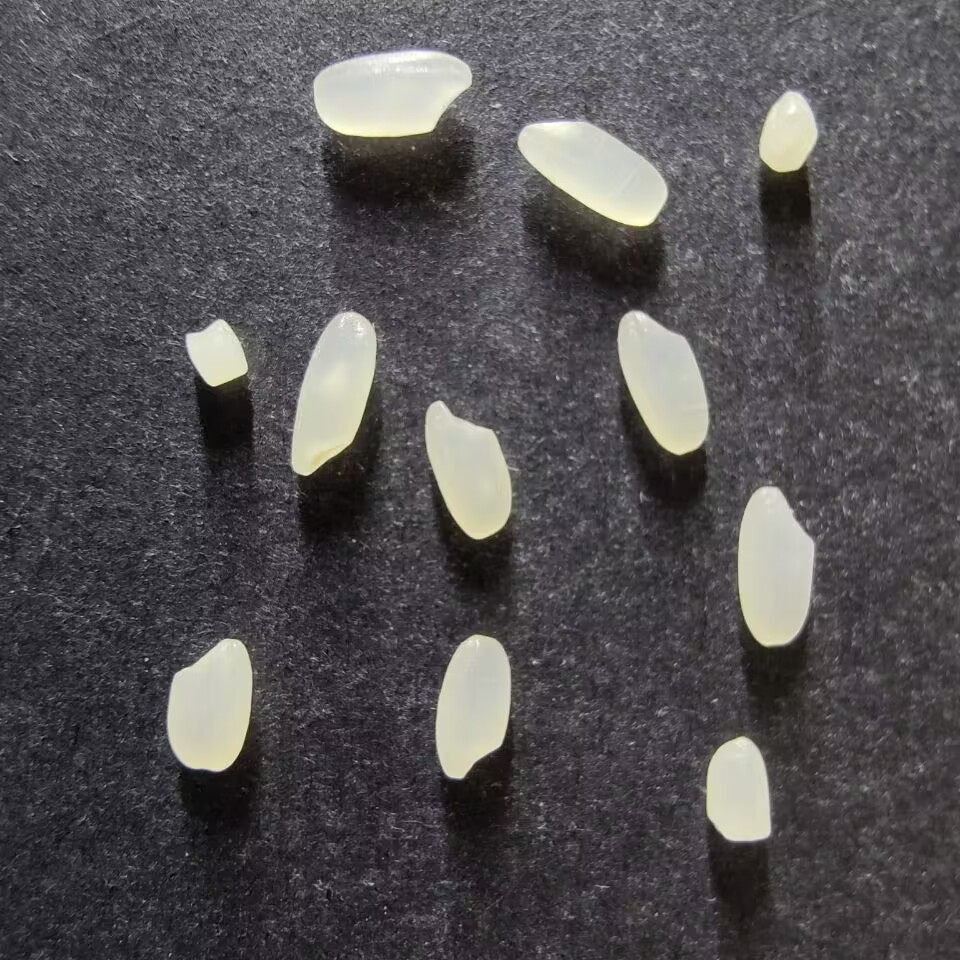broken: (704, 736, 772, 842), (758, 91, 817, 172), (183, 318, 247, 388)
rice: (517, 120, 667, 226), (289, 311, 377, 476), (312, 50, 472, 138), (616, 308, 708, 454), (736, 486, 814, 646), (423, 400, 511, 539), (166, 638, 251, 772), (434, 635, 510, 779)
